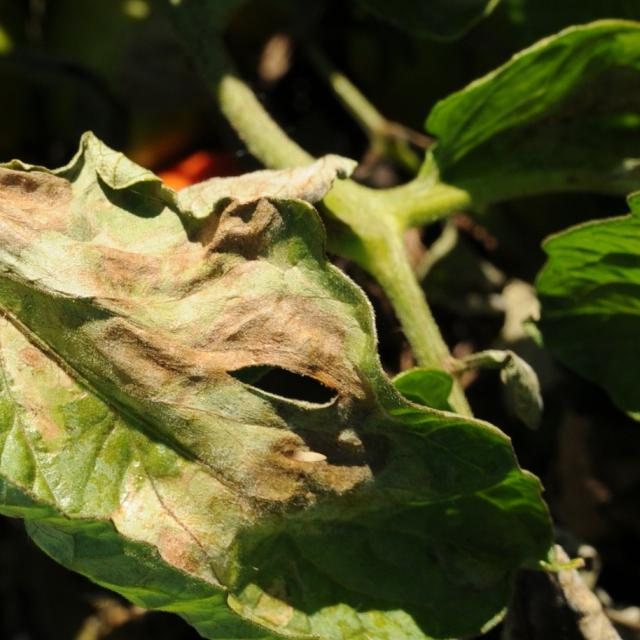Tomato leaf late blight: (0, 119, 533, 640)
